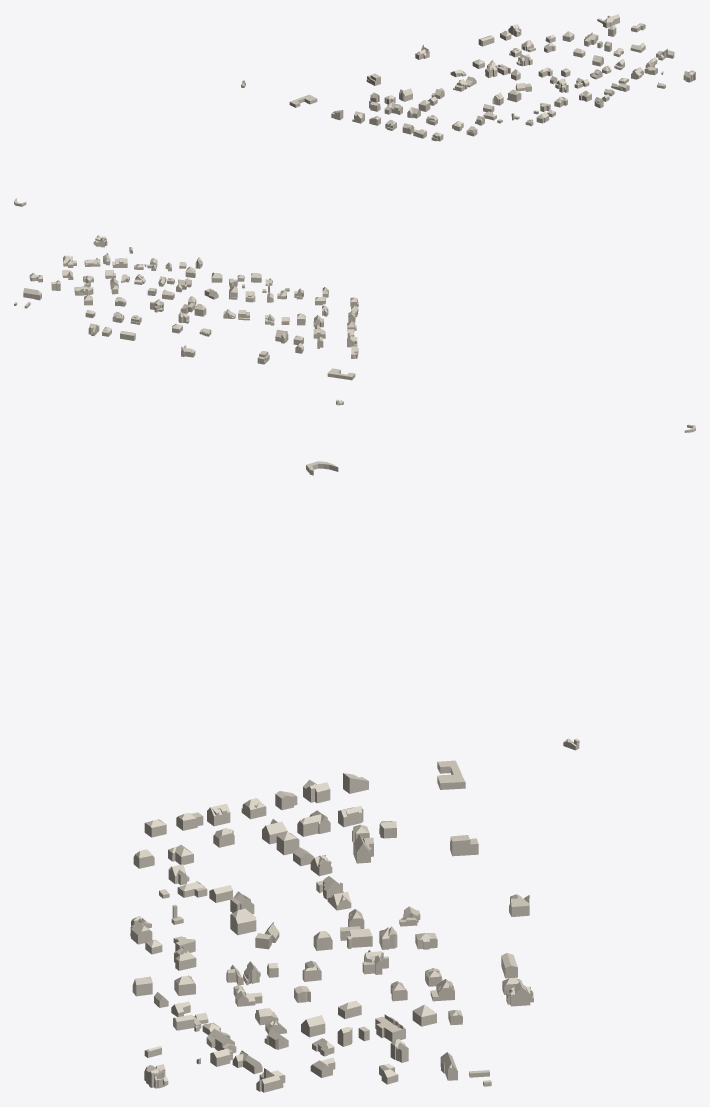
3 views of the same model, one above another, from view 1: azimuth 30°, elevation 25°; view 2: azimuth 150°, elevation 25°; view 3: azimuth 270°, elevation 25° (orthographic). The views are drawn at different scales.
Bounding box in the file's own units: 853 × 20.21 × 256.
